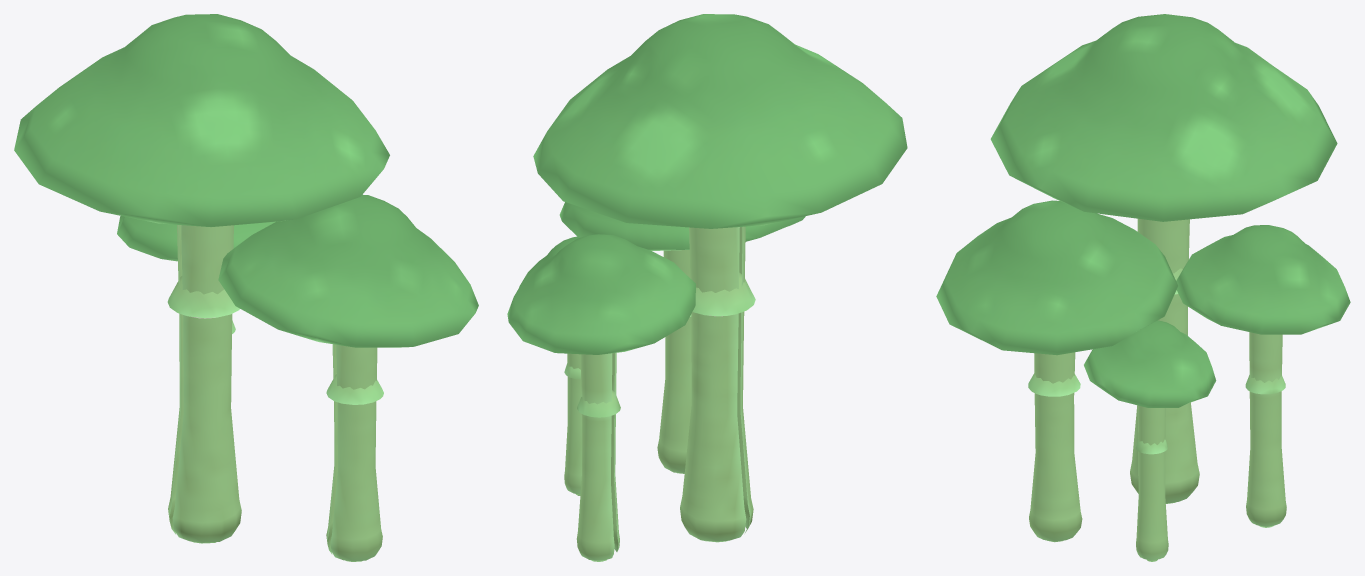
File: houba_zelenka_svitici.glb
3 renders of one model, left to right at view 1: azimuth 30°, elevation 25°; view 2: azimuth 150°, elevation 25°; view 3: azimuth 270°, elevation 25°, orthographic. The views are drawn at different scales.
Visible parts, largest first — view 1: noc; view 2: noc; view 3: noc.
Part boxes in pixels (x1,y1,x2,y2): noc: (14, 14, 478, 561); noc: (507, 14, 907, 561); noc: (936, 14, 1350, 561).
Size of the model in its own units: 0.0873 by 0.1161 by 0.0927.
Materials: 2 (2 with a texture image).
